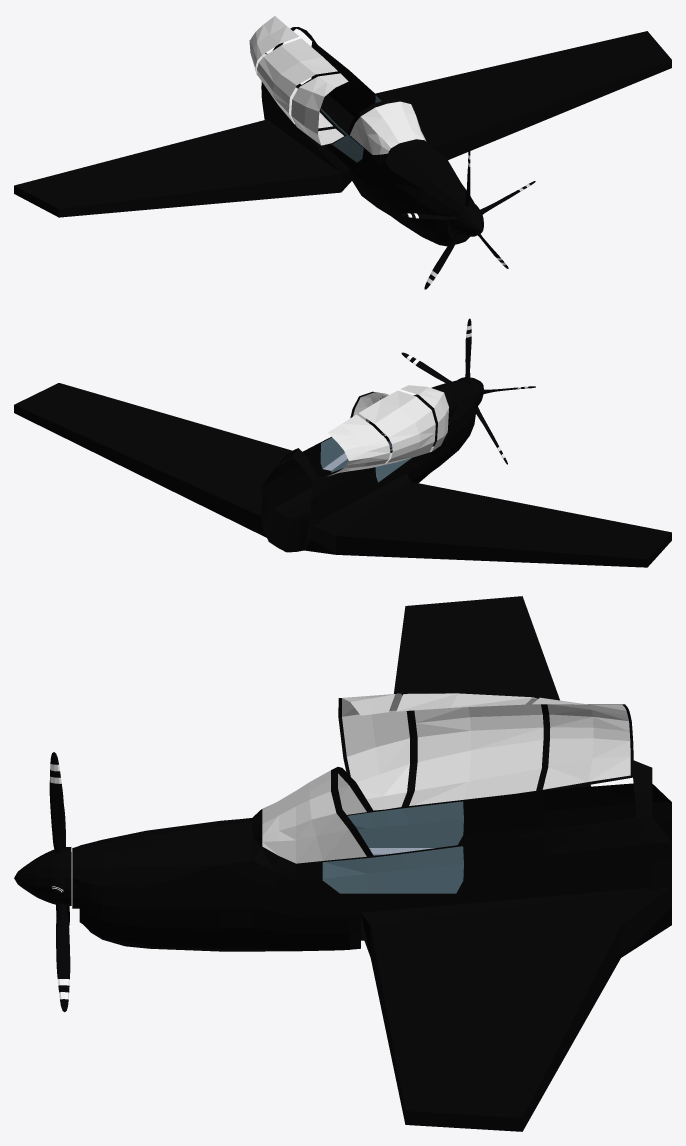
Rendered from menu testes.fbx.
3 renders of one model, top to bottom at view 1: azimuth 30°, elevation 25°; view 2: azimuth 150°, elevation 25°; view 3: azimuth 270°, elevation 25°, orthographic. The views are drawn at different scales.
Parts seen in each view (by area): view 1: CORPO, propeler.004, propeler engine; view 2: CORPO, propeler.004; view 3: CORPO, propeler.004, propeler engine.
Part boxes in pixels (box(x1,y1,x2,y2)): CORPO: box(14, 16, 671, 246); propeler.004: box(401, 148, 535, 289); propeler engine: box(450, 201, 483, 236); CORPO: box(14, 380, 671, 567); propeler.004: box(401, 318, 535, 464); CORPO: box(72, 596, 671, 1131); propeler.004: box(49, 752, 70, 1012); propeler engine: box(14, 847, 71, 906).
Size of the model in its own units: 497 by 112 by 265.
Materials: 6 (2 with a texture image).
